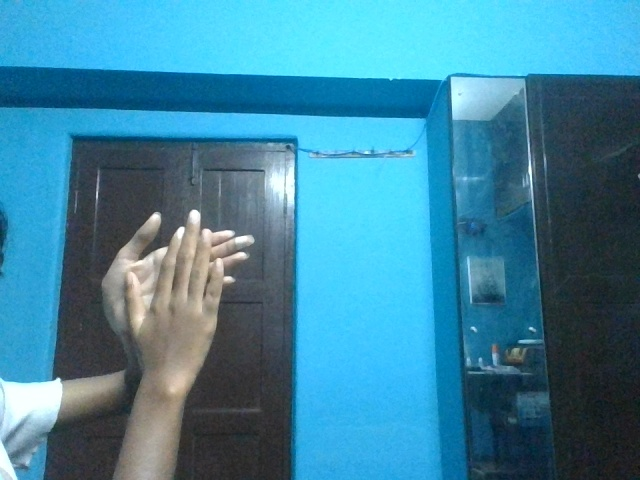H: (89, 206, 256, 391)
